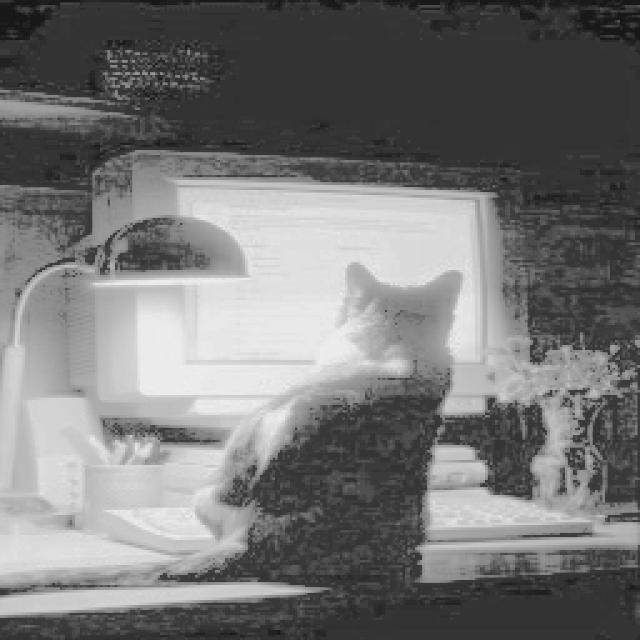cat: (154, 237, 476, 606)
